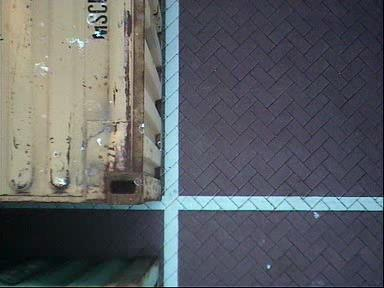groundmarker_2: (160, 117, 263, 246)
